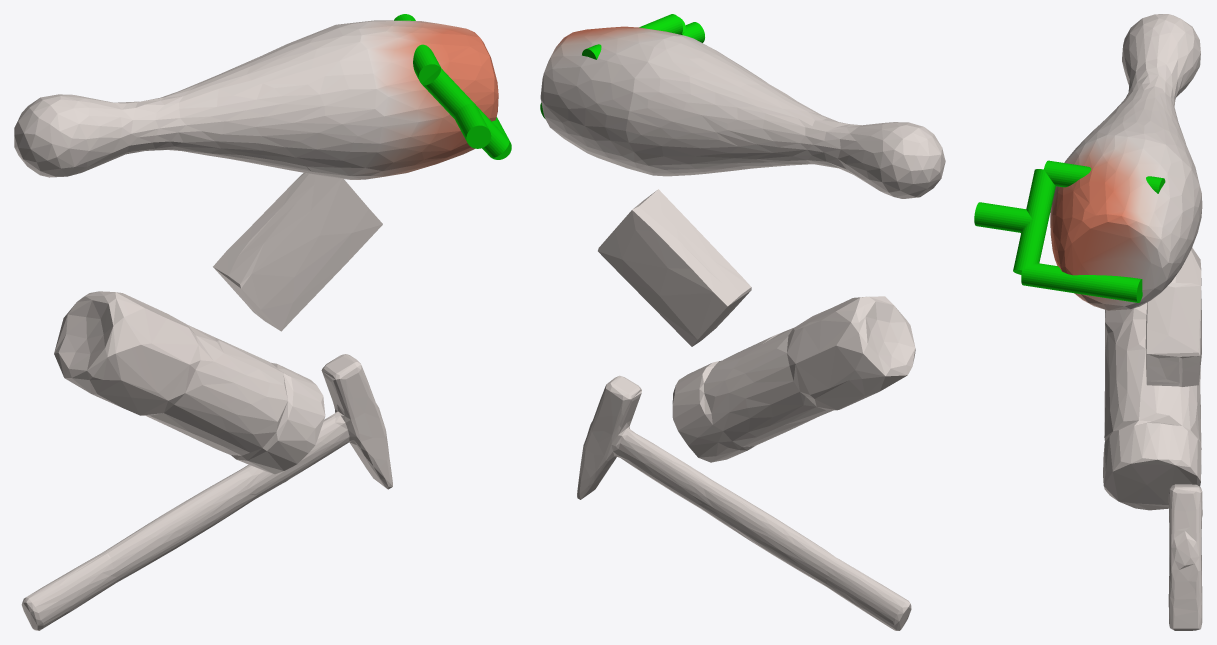
Rendered from round_000_trial_002.obj.
3 renders of one model, left to right at view 1: azimuth 30°, elevation 25°; view 2: azimuth 150°, elevation 25°; view 3: azimuth 270°, elevation 25°, orthographic. The views are drawn at different scales.
Parts seen in each view (by area): view 1: geometry_0, geometry_1; view 2: geometry_0, geometry_1; view 3: geometry_0, geometry_1.
Part boxes in pixels (left/top/right/bottom): geometry_0: left=14, top=20, right=498, bottom=630; geometry_1: left=394, top=14, right=511, bottom=159; geometry_0: left=540, top=26, right=945, bottom=630; geometry_1: left=540, top=14, right=704, bottom=118; geometry_0: left=1050, top=14, right=1202, bottom=630; geometry_1: left=974, top=160, right=1165, bottom=302.
Size of the model in its own units: 0.2055 by 0.2405 by 0.0942.
